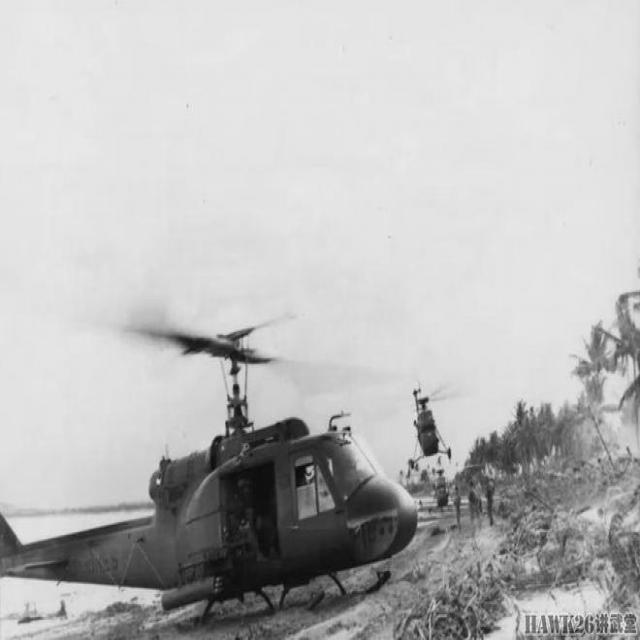MIL_HELO: (0, 301, 432, 625), (377, 373, 464, 463)
